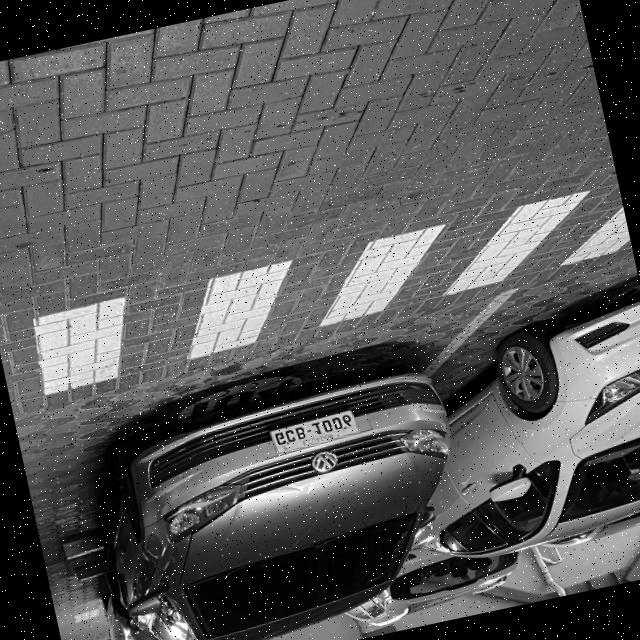Placa: (271, 409, 359, 452)
